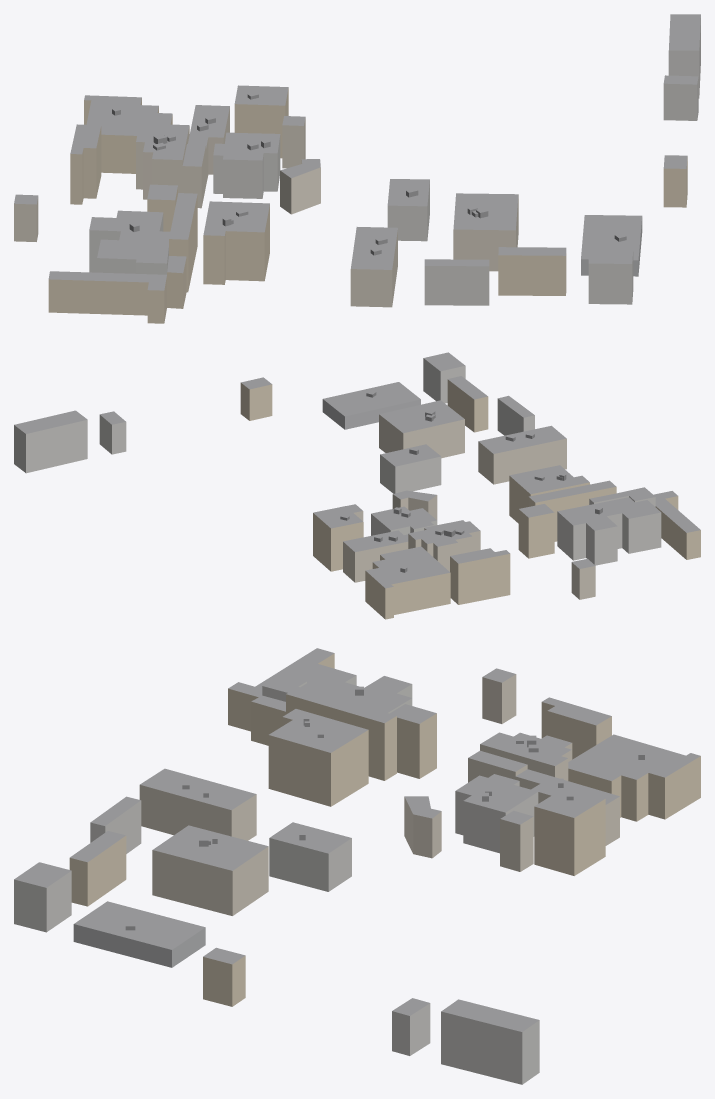
File: building_-2_-7.glb
The picture shows the model from 3 angles, top to bottom: view 1: azimuth 30°, elevation 25°; view 2: azimuth 150°, elevation 25°; view 3: azimuth 270°, elevation 25°; orthographic projection. The views are drawn at different scales.
Visible parts, largest first — view 1: roof, sandstone, concrete_light, concrete_warm; view 2: roof, sandstone, concrete_light, concrete_warm, industrial; view 3: roof, sandstone, concrete_light, concrete_warm, industrial.
Boxes of the visible parts, <box> form: roof: <box>14,14,700,290</box>; sandstone: <box>48,88,687,323</box>; concrete_light: <box>89,18,700,305</box>; concrete_warm: <box>14,107,518,307</box>; roof: <box>14,352,700,588</box>; sandstone: <box>240,379,700,619</box>; concrete_light: <box>14,358,661,565</box>; concrete_warm: <box>343,414,595,599</box>; industrial: <box>322,399,420,429</box>; roof: <box>14,648,700,1031</box>; sandstone: <box>69,653,700,1006</box>; concrete_light: <box>14,675,539,1084</box>; concrete_warm: <box>139,674,619,915</box>; industrial: <box>73,924,205,967</box>.
Bounding box in the file's own units: 227 × 16.26 × 164.
